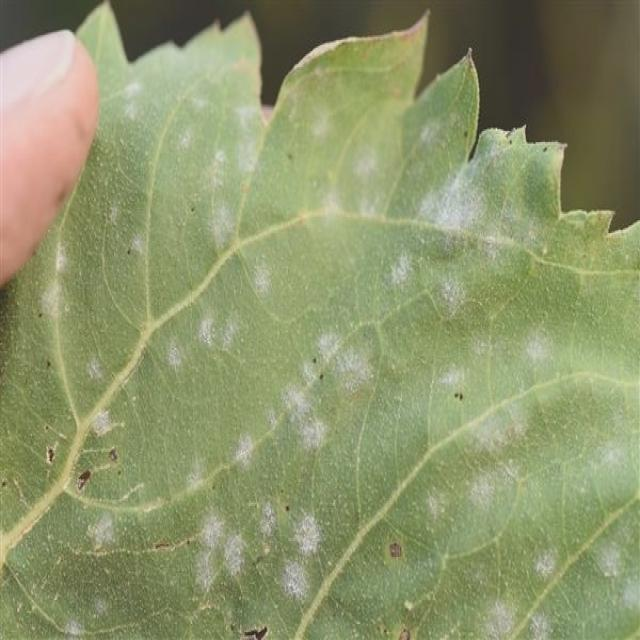Powdery Mildew: (102, 36, 489, 640)
